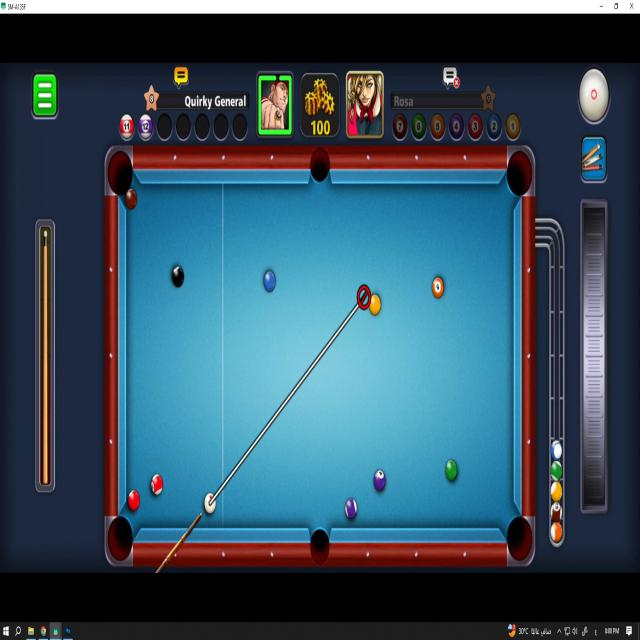object_ball: (374, 469, 386, 492), (446, 460, 458, 481), (172, 266, 184, 287), (264, 271, 275, 292), (345, 498, 356, 519), (369, 295, 380, 315), (125, 189, 136, 209), (432, 278, 443, 298), (128, 491, 139, 510), (152, 475, 162, 495)
white_cue_ball: (579, 69, 609, 122), (205, 493, 215, 514)
